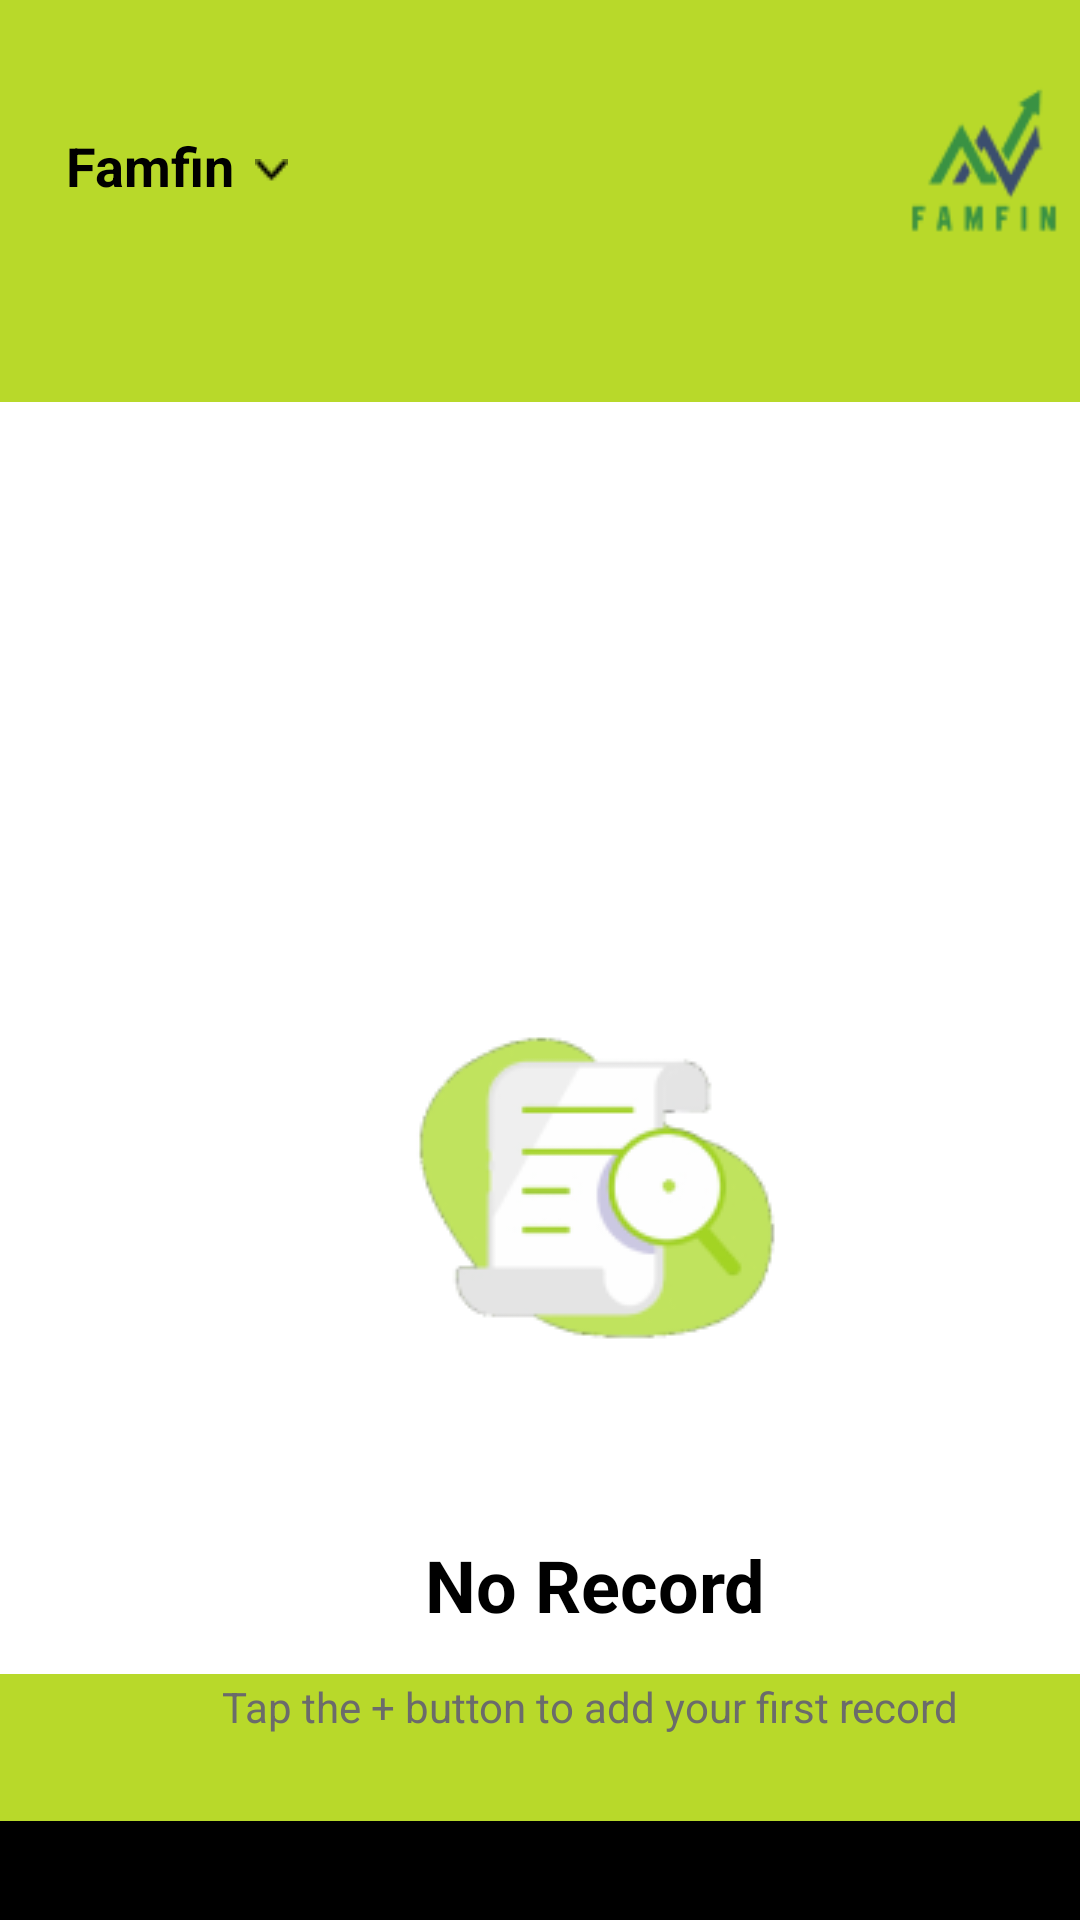

Icons on this 1080w x 1920h Android screen, each with its box as (x1, y1, x2, y2):
note 2: (419, 1037, 775, 1339)
